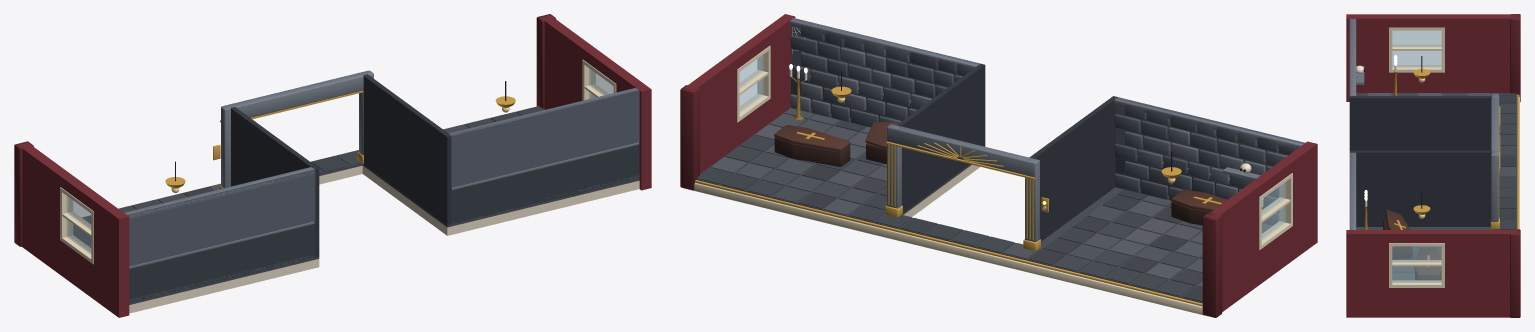
Rendered from Floor_Crypt.fbx.
3 views of the same model, side by side, from view 1: azimuth 30°, elevation 25°; view 2: azimuth 150°, elevation 25°; view 3: azimuth 270°, elevation 25° (orthographic). The views are drawn at different scales.
Parts seen in each view (by area): view 1: Shell; view 2: Shell; view 3: Shell, Glow.
Part boxes in pixels (x1,y1,x2,y2): Shell: [14, 14, 651, 317]; Shell: [680, 14, 1317, 317]; Shell: [1346, 14, 1520, 317]; Glow: [1364, 55, 1425, 218].
Size of the model in its own units: 15.92 by 2.82 by 5.3.
